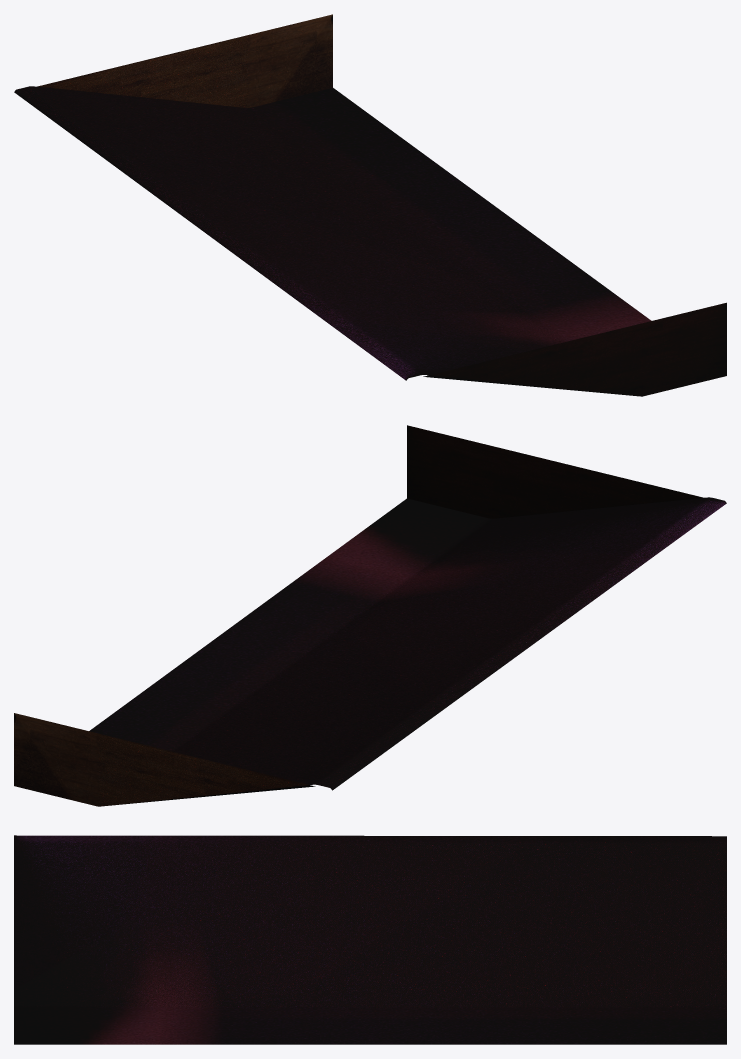
Rendered from audiencefloor.obj.
3 renders of one model, top to bottom at view 1: azimuth 30°, elevation 25°; view 2: azimuth 150°, elevation 25°; view 3: azimuth 270°, elevation 25°, orthographic. The views are drawn at different scales.
Parts seen in each view (by area): view 1: audienceFloor BakedQuadGeos1; view 2: audienceFloor BakedQuadGeos1; view 3: audienceFloor BakedQuadGeos1.
Boxes of the visible parts, x1,y1,x2,y2 form: audienceFloor BakedQuadGeos1: (14,14,726,396); audienceFloor BakedQuadGeos1: (14,425,726,806); audienceFloor BakedQuadGeos1: (14,835,726,1044).
Bounding box in the file's own units: 3.58 × 0.8039 × 7.61.
1 material, 1 textured.
